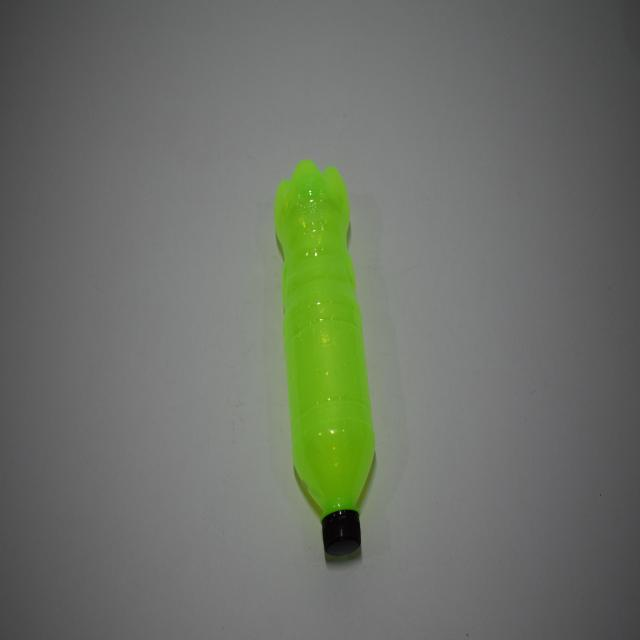empty: (274, 160, 375, 517)
